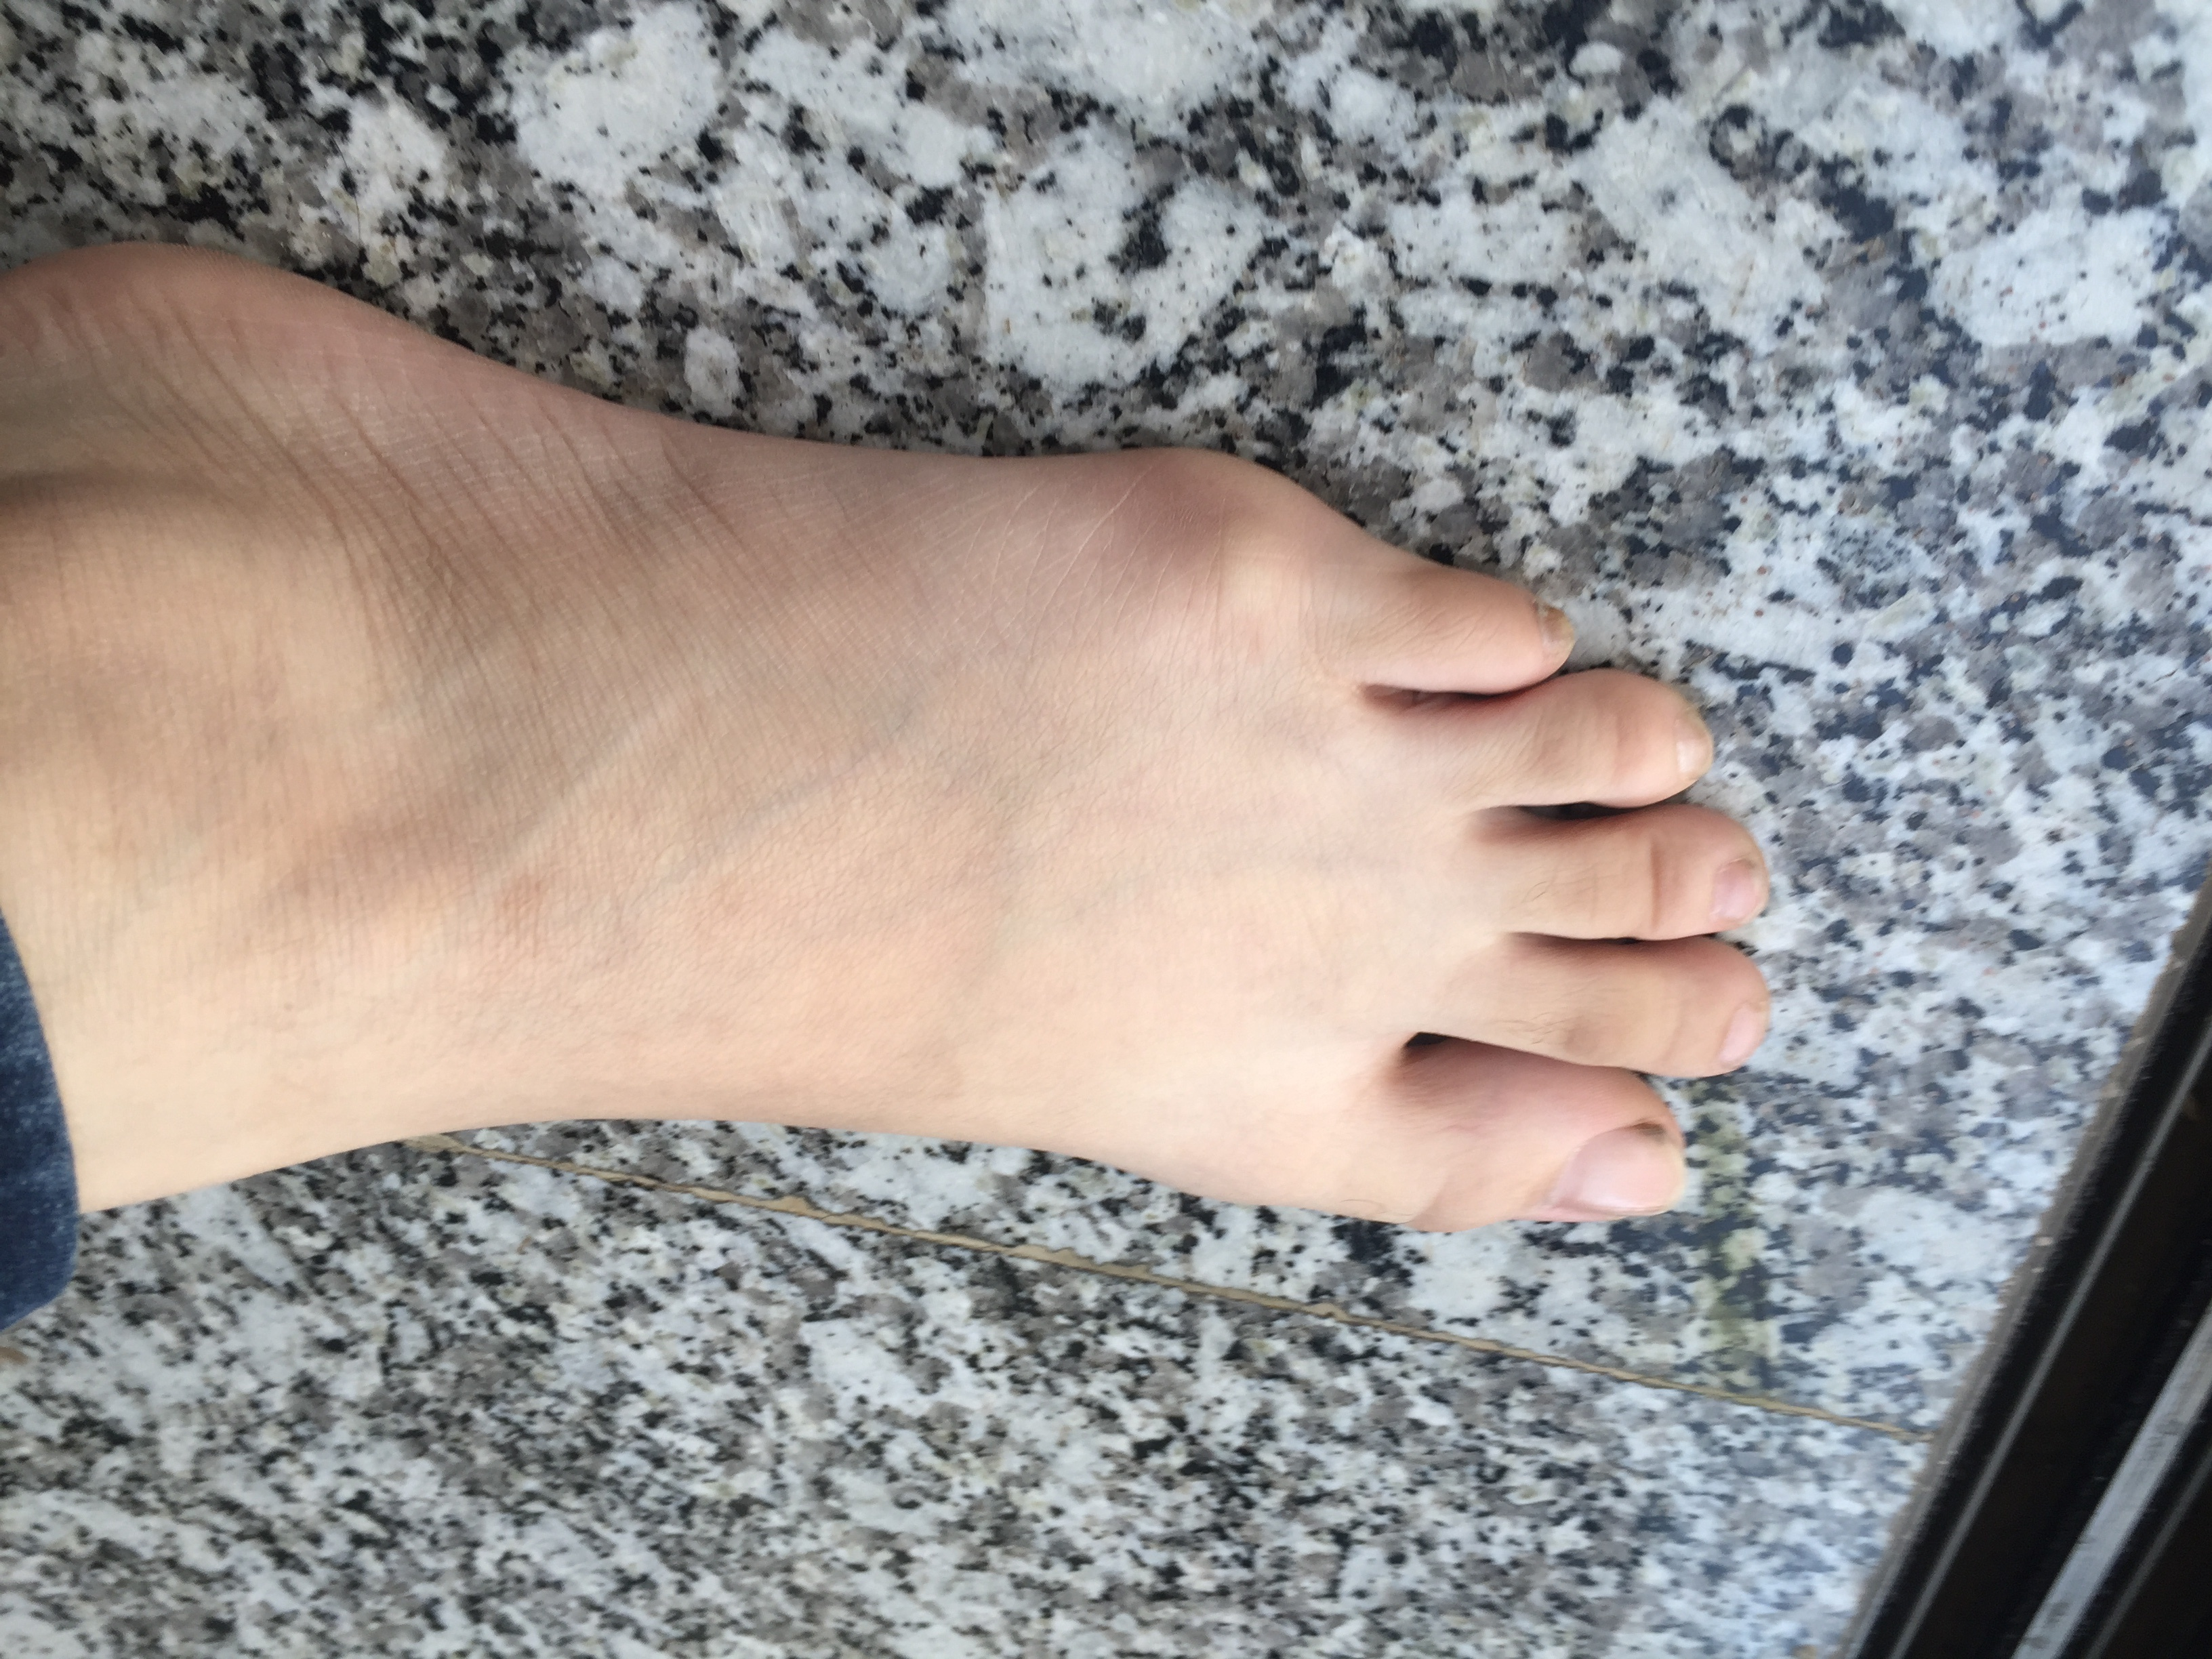feet: (10, 119, 1787, 1244)
